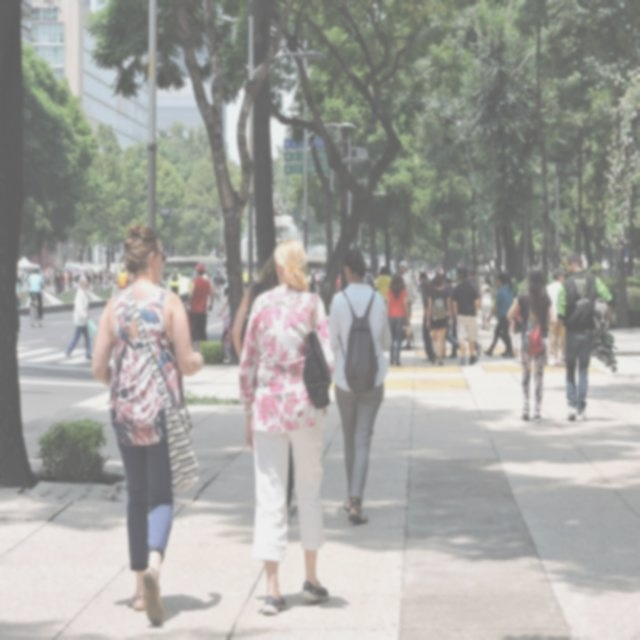pessoa: (88, 223, 205, 629), (236, 235, 336, 619), (231, 250, 311, 510), (324, 242, 394, 528), (112, 578, 353, 632), (552, 251, 614, 424), (505, 261, 557, 425), (446, 264, 482, 360), (449, 264, 482, 368), (481, 270, 516, 360), (62, 274, 94, 361), (425, 272, 453, 367), (187, 262, 215, 353), (385, 269, 411, 366), (544, 268, 568, 368), (436, 269, 460, 360), (398, 260, 418, 352), (494, 269, 514, 358), (418, 270, 435, 362), (34, 264, 80, 295), (476, 271, 494, 331), (510, 288, 524, 363), (27, 267, 45, 320), (216, 290, 232, 344), (374, 264, 394, 306), (85, 266, 117, 291), (176, 268, 192, 316), (15, 270, 23, 346), (308, 266, 326, 294), (167, 266, 182, 296), (212, 266, 224, 300), (220, 264, 230, 302), (361, 263, 378, 285), (117, 266, 131, 290), (468, 269, 481, 294), (190, 265, 200, 292), (158, 266, 171, 286), (420, 265, 445, 275), (410, 268, 420, 292), (22, 268, 33, 288), (241, 267, 249, 292), (222, 268, 229, 290), (334, 272, 340, 292), (427, 268, 435, 282), (203, 266, 210, 280), (252, 266, 259, 280), (391, 266, 397, 278), (78, 266, 85, 276)
